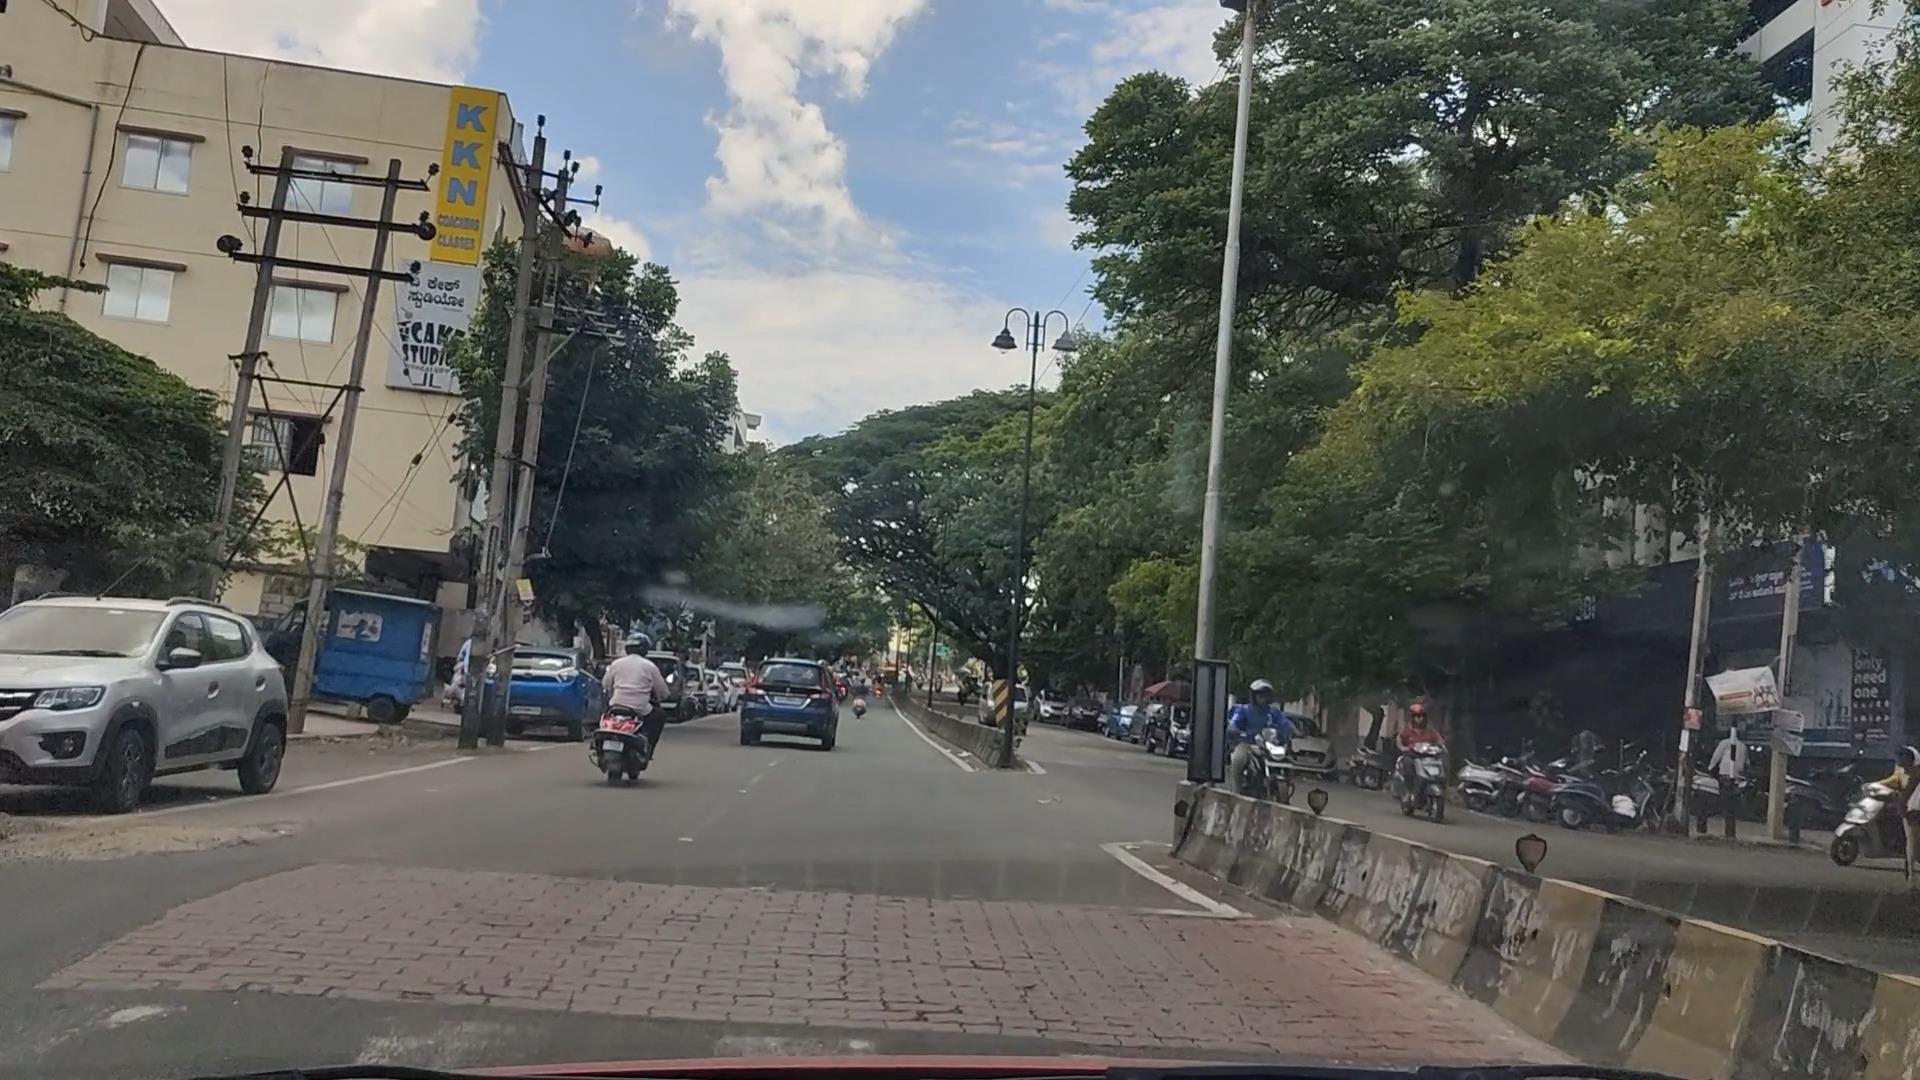LMV: (36, 585, 285, 826)
SpeedBump: (53, 803, 1443, 1080)
